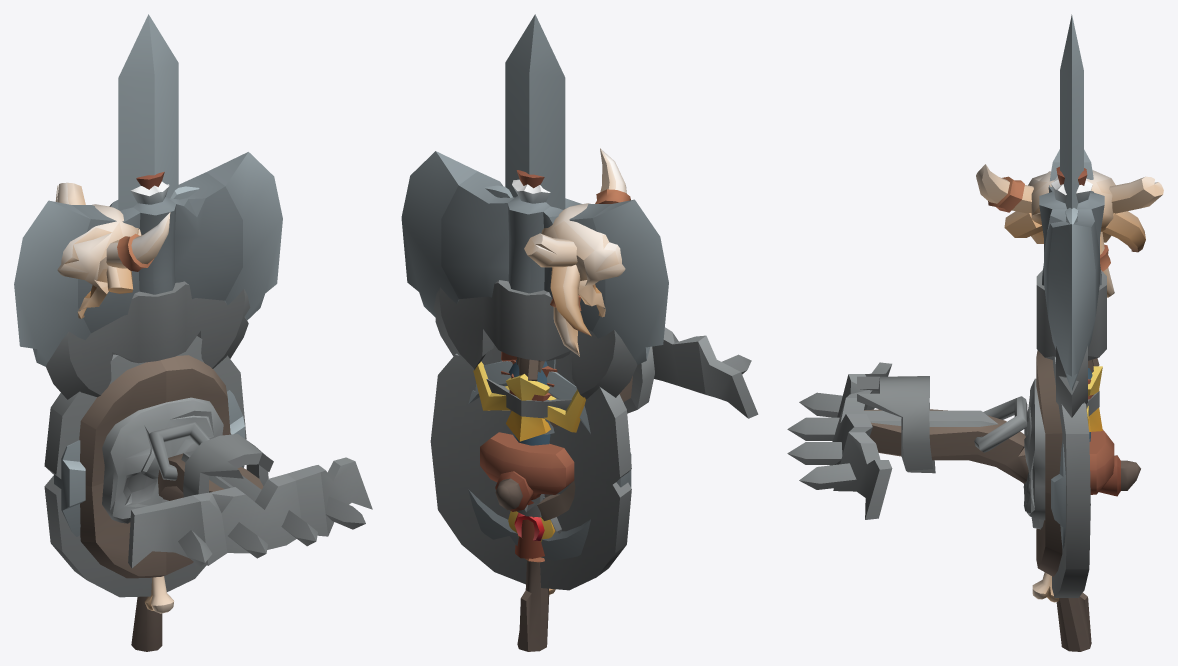
Rendered from weapons.glb.
The picture shows the model from 3 angles, left to right: view 1: azimuth 30°, elevation 25°; view 2: azimuth 150°, elevation 25°; view 3: azimuth 270°, elevation 25°; orthographic projection.
Parts seen in each view (by area): view 1: axe_2h, sk_shield_l, sk_crossbow, sk_axe, sword_2h, sk_staff, sk_shield_s; view 2: axe_2h, sk_shield_l, sword_2h, sk_axe, sk_staff, sk_crossbow, sk_shield_s, sk_blade; view 3: sk_crossbow, sk_shield_l, axe_2h, sk_staff, sword_2h, sk_axe, sk_shield_s.
Boxes of the visible parts, x1,y1,x2,y2 form: axe_2h: (14, 152, 282, 366); sk_shield_l: (44, 336, 246, 597); sk_crossbow: (128, 421, 372, 568); sk_axe: (46, 281, 250, 399); sword_2h: (118, 14, 178, 210); sk_staff: (55, 182, 173, 651); sk_shield_s: (54, 390, 244, 536); axe_2h: (401, 151, 668, 558); sk_shield_l: (430, 344, 631, 590); sword_2h: (473, 14, 585, 541); sk_axe: (433, 280, 637, 517); sk_staff: (517, 148, 630, 651); sk_crossbow: (495, 327, 758, 511); sk_shield_s: (468, 361, 631, 560); sk_blade: (484, 185, 575, 533); sk_crossbow: (787, 362, 1140, 519); sk_shield_l: (1023, 350, 1114, 597); axe_2h: (1039, 149, 1104, 441); sk_staff: (976, 164, 1163, 651); sword_2h: (1060, 14, 1102, 431); sk_axe: (1036, 270, 1106, 417); sk_shield_s: (1051, 440, 1065, 549).
Size of the model in its own units: 1.24 by 2.81 by 1.51.
Materials: 4 (4 with a texture image).
